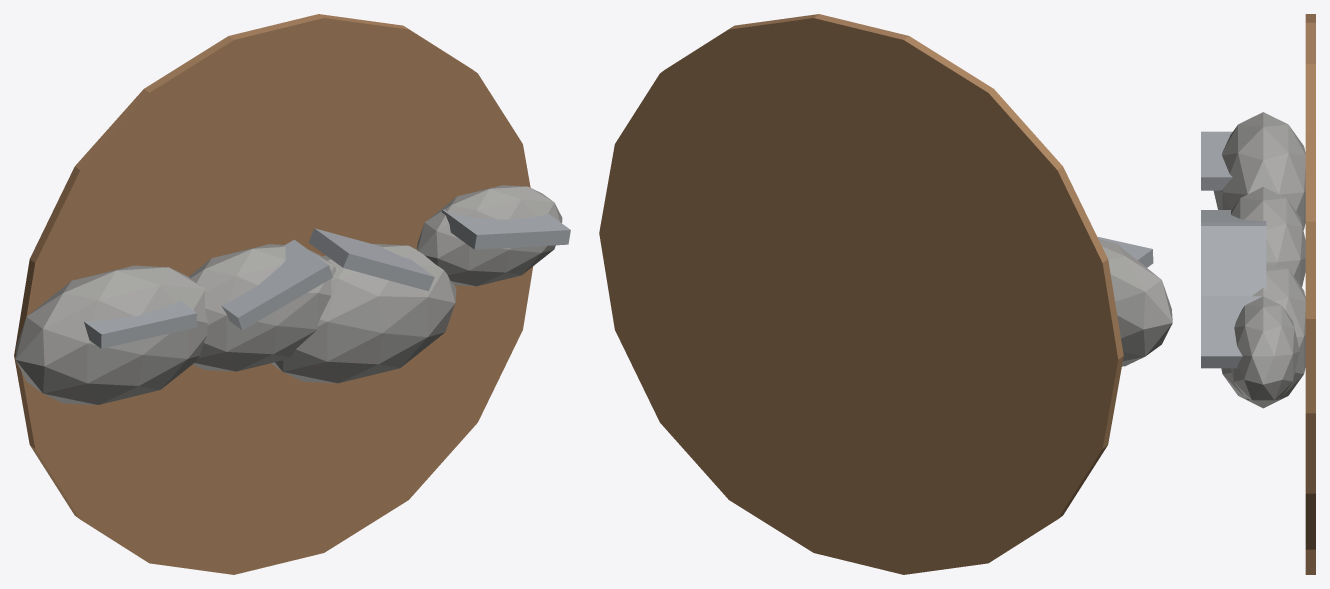
The model's file is 02_local_prop_cluster.glb.
The picture shows the model from 3 angles, left to right: view 1: azimuth 30°, elevation 25°; view 2: azimuth 150°, elevation 25°; view 3: azimuth 270°, elevation 25°; orthographic projection. The views are drawn at different scales.
Parts seen in each view (by area): view 1: scatter_base, scrap_rock_0, scrap_rock_2, scrap_rock_1, scrap_rock_3, scrap_plate_1, scrap_plate_3, scrap_plate_2, scrap_plate_0; view 2: scatter_base, scrap_rock_0; view 3: scrap_rock_0, scatter_base, scrap_rock_3, scrap_plate_2, scrap_rock_1, scrap_plate_3, scrap_rock_2, scrap_plate_0, scrap_plate_1.
Boxes of the visible parts, x1,y1,x2,y2 form: scatter_base: (14,14,533,574); scrap_rock_0: (15,265,207,404); scrap_rock_2: (271,243,456,383); scrap_rock_1: (189,244,335,371); scrap_rock_3: (417,185,562,286); scrap_plate_1: (221,239,332,330); scrap_plate_3: (442,209,570,249); scrap_plate_2: (308,228,434,291); scrap_plate_0: (84,301,196,348); scatter_base: (599,14,1123,574); scrap_rock_0: (1098,239,1172,366); scrap_rock_0: (1213,112,1305,230); scatter_base: (1305,14,1315,574); scrap_rock_3: (1231,296,1299,406); scrap_plate_2: (1201,226,1266,296); scrap_rock_1: (1231,186,1305,286); scrap_plate_3: (1201,296,1266,368); scrap_rock_2: (1221,264,1305,408); scrap_plate_0: (1201,131,1232,190); scrap_plate_1: (1201,210,1266,225).
Bounding box in the file's own units: 2 × 1.87 × 0.3875.
